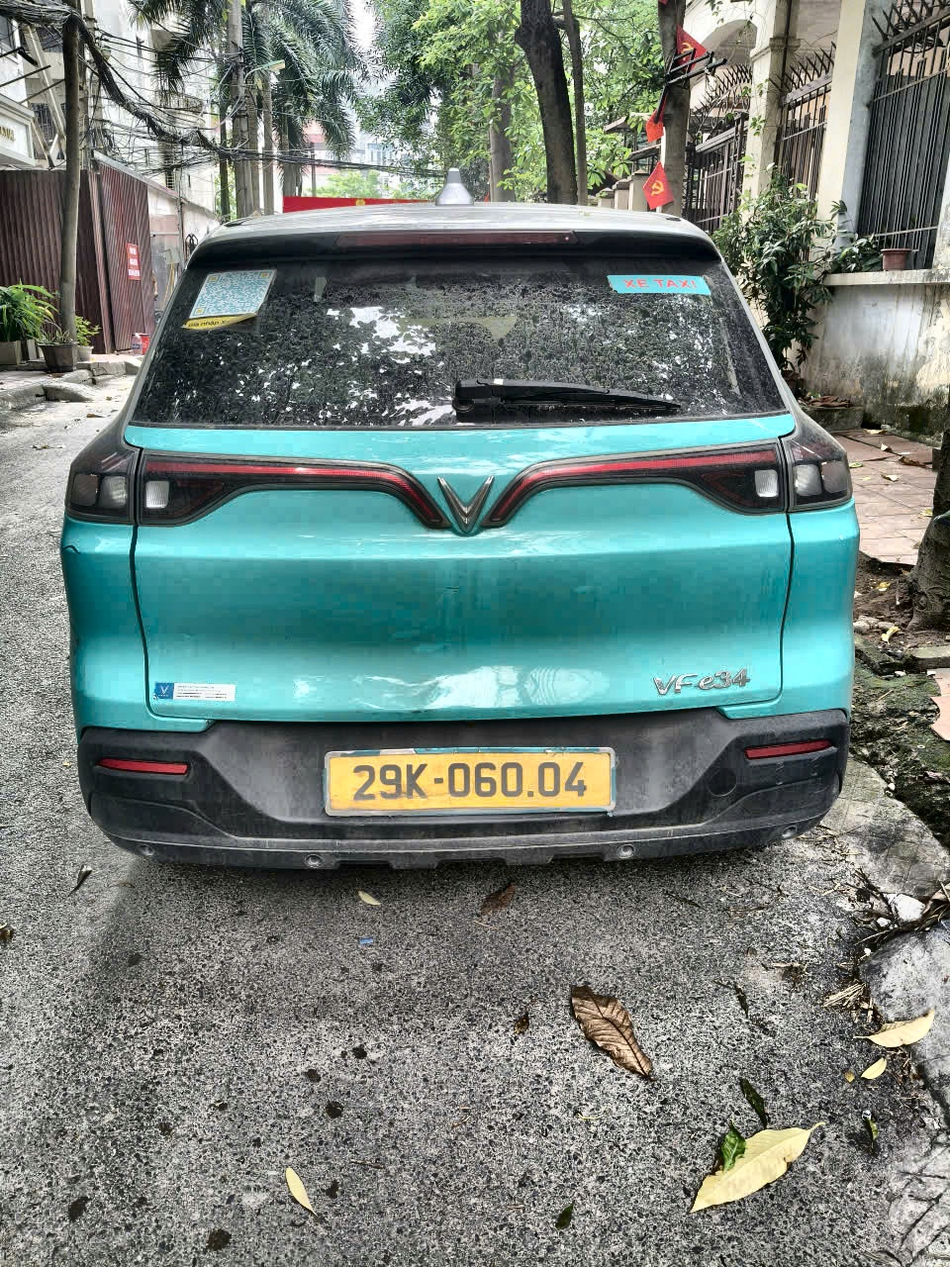plate: (646, 667, 757, 699)
